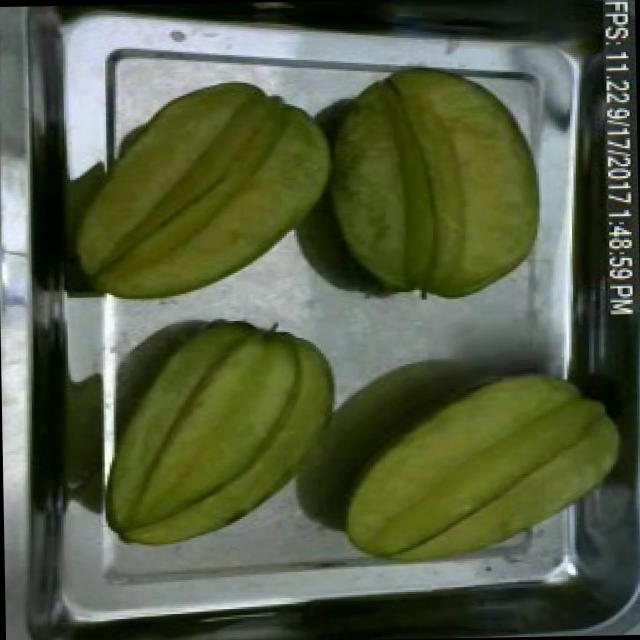fruit: (60, 67, 344, 310), (323, 354, 637, 570), (313, 52, 553, 308), (96, 306, 336, 560)
